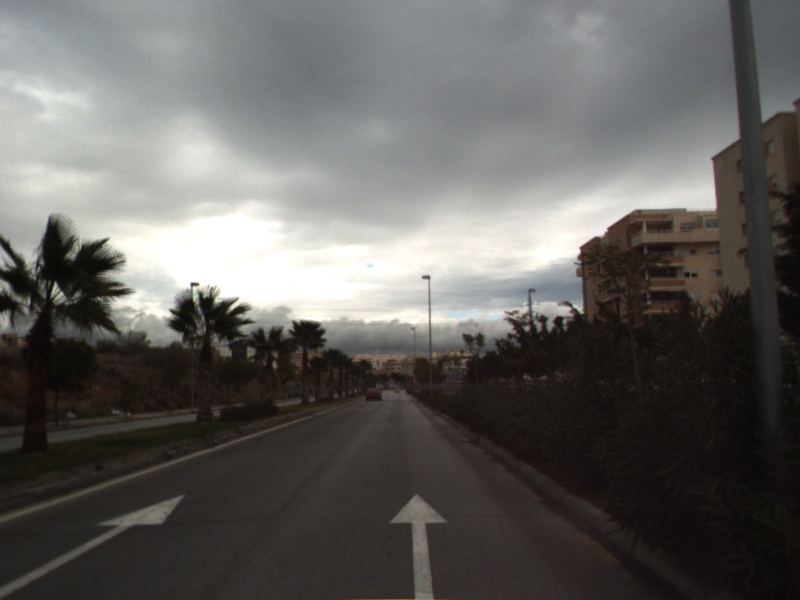STRAIGHT: (1, 492, 188, 598), (388, 491, 450, 600)
